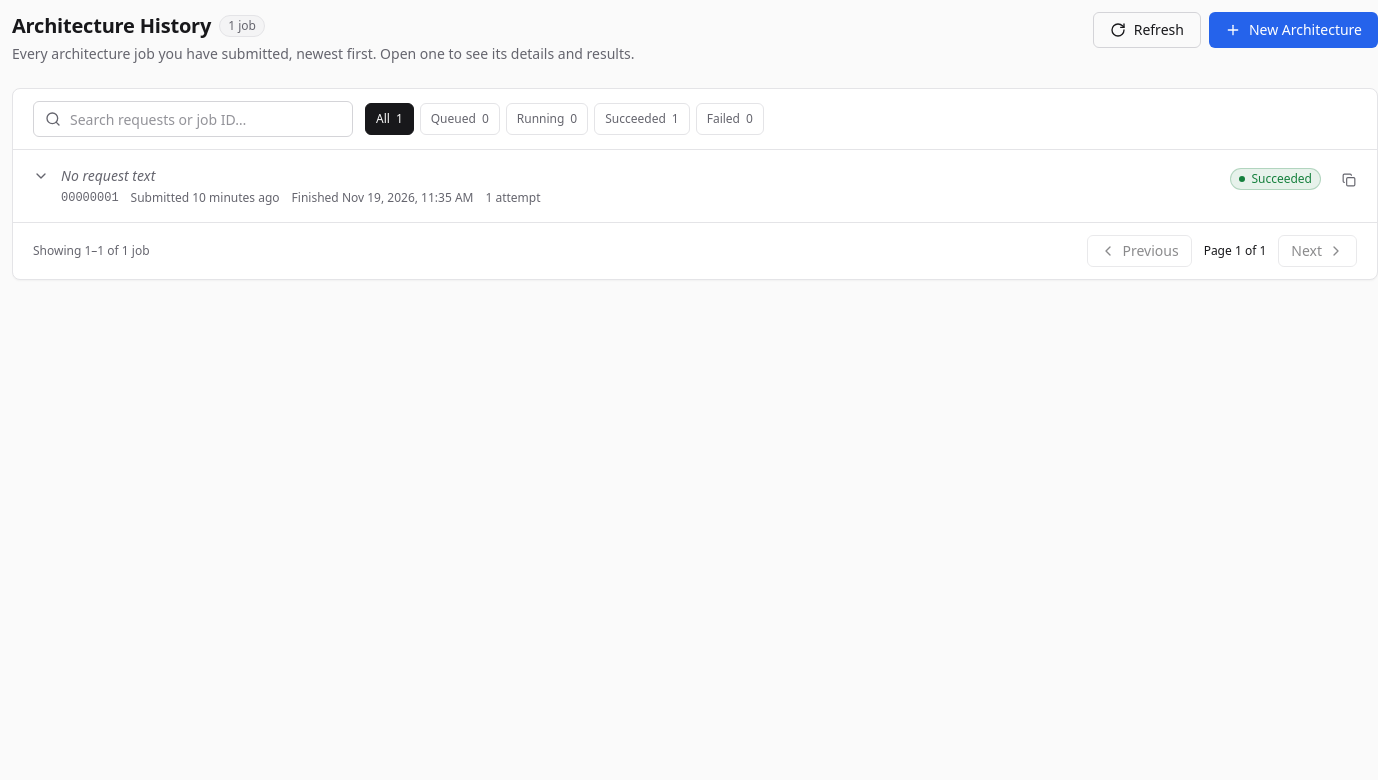
Architecture History page › missing metadata is shown as missing, never invented
This screenshot has width=1378, height=780.
Expected: the text "No request text" is shown, [61, 166, 155, 185]
Expected: the text "Version" is not shown
Click the button that starts with "No request text".
click(108, 176)  # box [25, 158, 1329, 214]
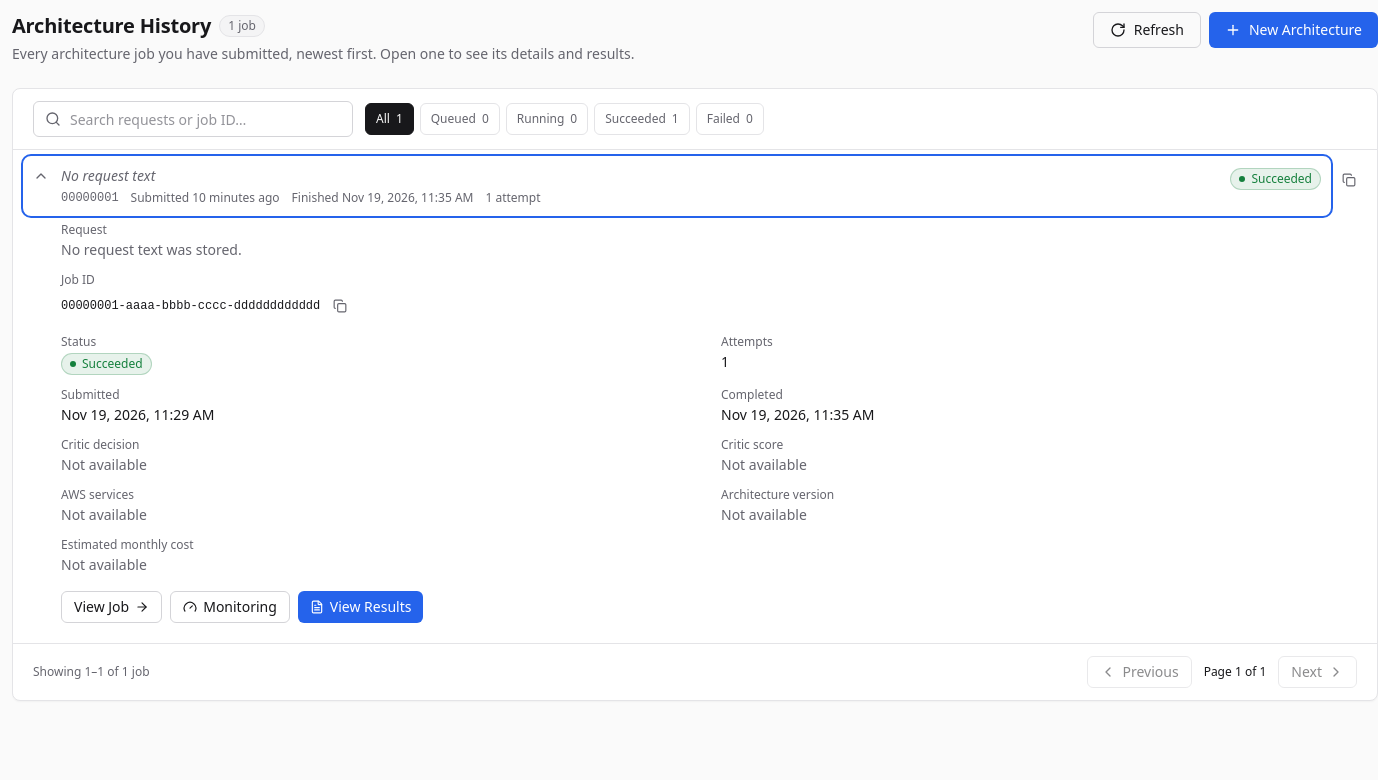
Expected: the text "No request text was stored." is shown, [61, 240, 242, 259]
Expected: the text "Not available" is shown 5 times, [61, 455, 147, 474]; [721, 455, 807, 474]; [61, 505, 147, 524]; [721, 505, 807, 524]; [61, 555, 147, 574]
